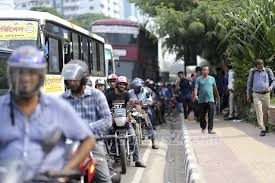helmet: (113, 74, 131, 93)
